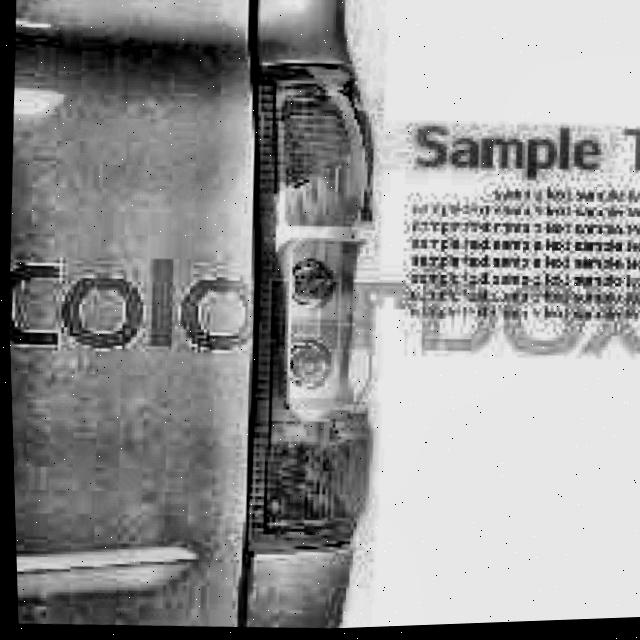tail_lamp: (238, 79, 387, 540)
